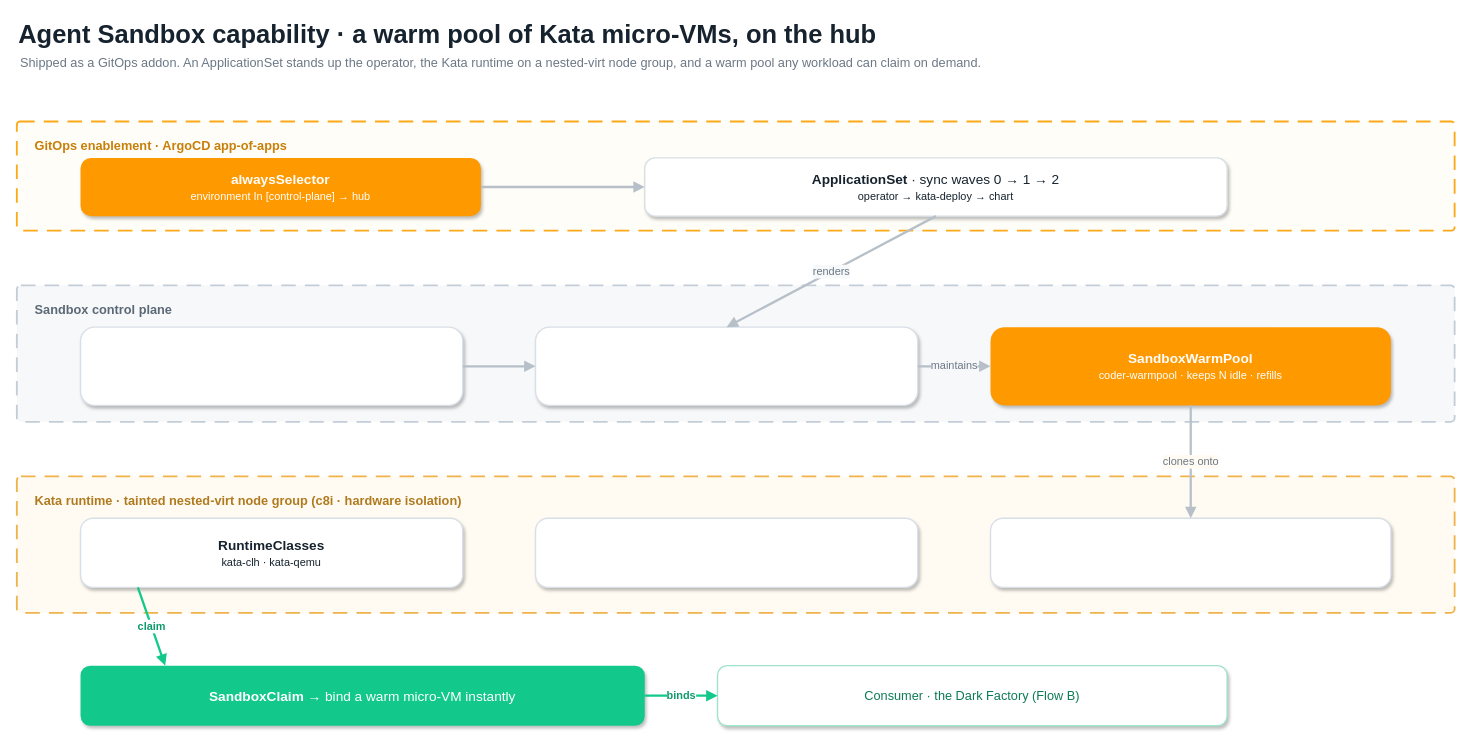
Some shapes in this 1471 by 748 pixel diagram are drawn without their labels. Here are the shapes that lost their labels. From the top down, the centre of each, then its label:
At point 272,367: "CRDs Sandbox · SandboxClaim SandboxTemplate · SandboxWarmPool".
At point 727,367: "agent-sandbox operator vendored v0.5.1".
At point 727,554: "kata-deploy installs runtime on the node".
At point 1191,554: "nested-virt MNG c8i · /dev/kvm · min=0 · kata taint".
